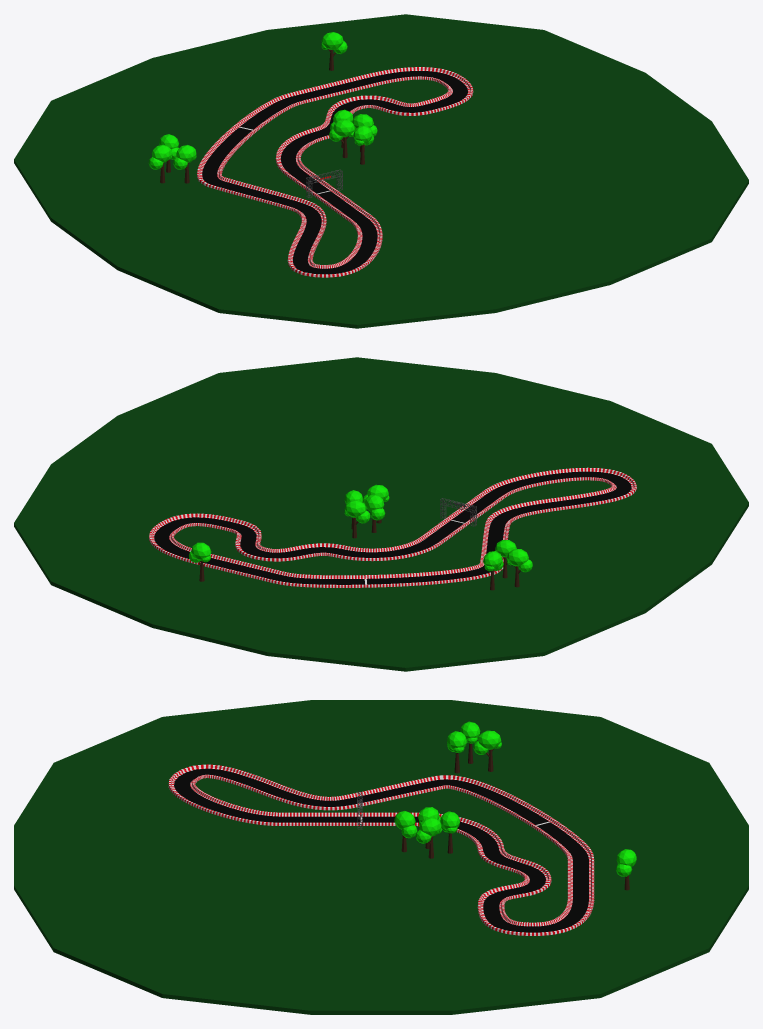
Rendered from track.gltf.
3 renders of one model, top to bottom at view 1: azimuth 30°, elevation 25°; view 2: azimuth 150°, elevation 25°; view 3: azimuth 270°, elevation 25°, orthographic. The views are drawn at different scales.
Visible parts, largest first — view 1: ground, track, rail, trees_2, trees_1, tree; view 2: ground, rail, track, trees_2, trees_1; view 3: ground, rail, track, trees_2, trees_1, tree.
Boxes of the visible parts, x1=… form: ground: x1=14, y1=14, x2=748, y2=328; track: x1=202, y1=71, x2=467, y2=274; rail: x1=197, y1=67, x2=473, y2=277; trees_2: x1=329, y1=109, x2=377, y2=164; trees_1: x1=148, y1=134, x2=196, y2=183; tree: x1=321, y1=32, x2=347, y2=70; ground: x1=14, y1=357, x2=748, y2=671; rail: x1=149, y1=467, x2=636, y2=587; track: x1=154, y1=471, x2=631, y2=584; trees_2: x1=344, y1=484, x2=389, y2=538; trees_1: x1=483, y1=540, x2=532, y2=590; ground: x1=14, y1=700, x2=748, y2=1014; rail: x1=168, y1=764, x2=594, y2=935; track: x1=174, y1=768, x2=588, y2=932; trees_2: x1=394, y1=807, x2=459, y2=858; trees_1: x1=447, y1=721, x2=501, y2=773; tree: x1=616, y1=849, x2=636, y2=890.
Size of the model in its own units: 311 by 20.35 by 311.
